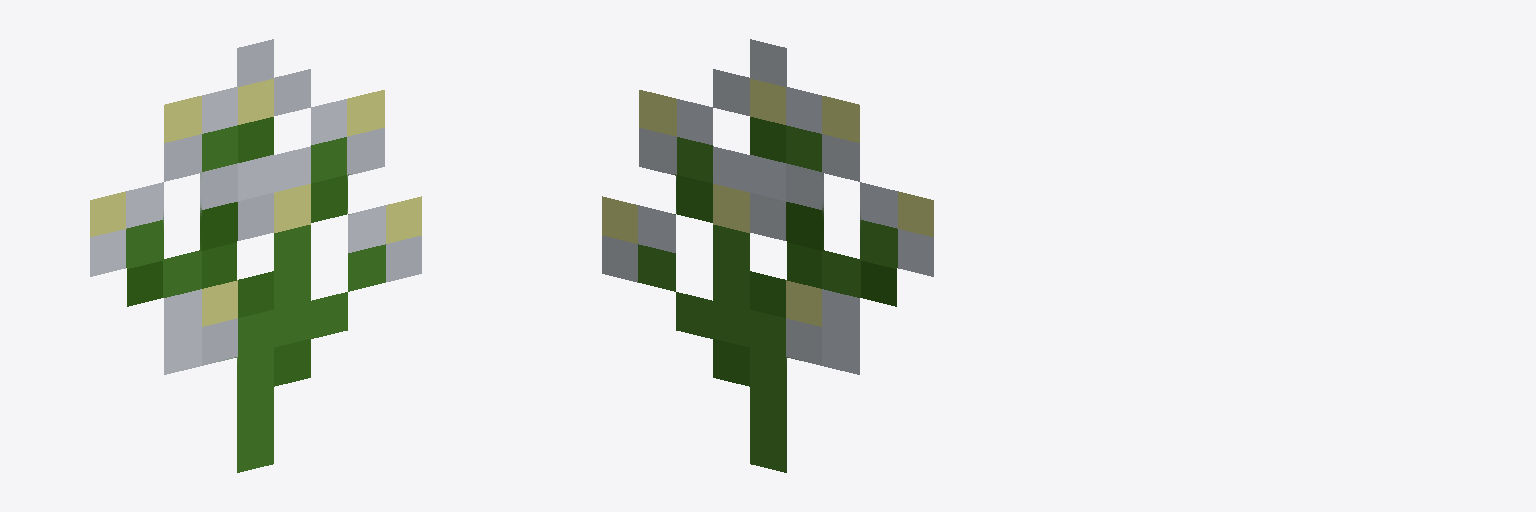
3 views of the same model, side by side, from view 1: azimuth 30°, elevation 25°; view 2: azimuth 150°, elevation 25°; view 3: azimuth 270°, elevation 25° (orthographic).
Visible parts, largest first — view 1: Plane; view 2: Plane; view 3: none.
Part boxes in pixels (x1,y1,x2,y2): Plane: (90,39,421,472); Plane: (602,39,933,472).
Size of the model in its own units: 5.01 by 6.11 by 0.0001.
1 materials, 1 textured.